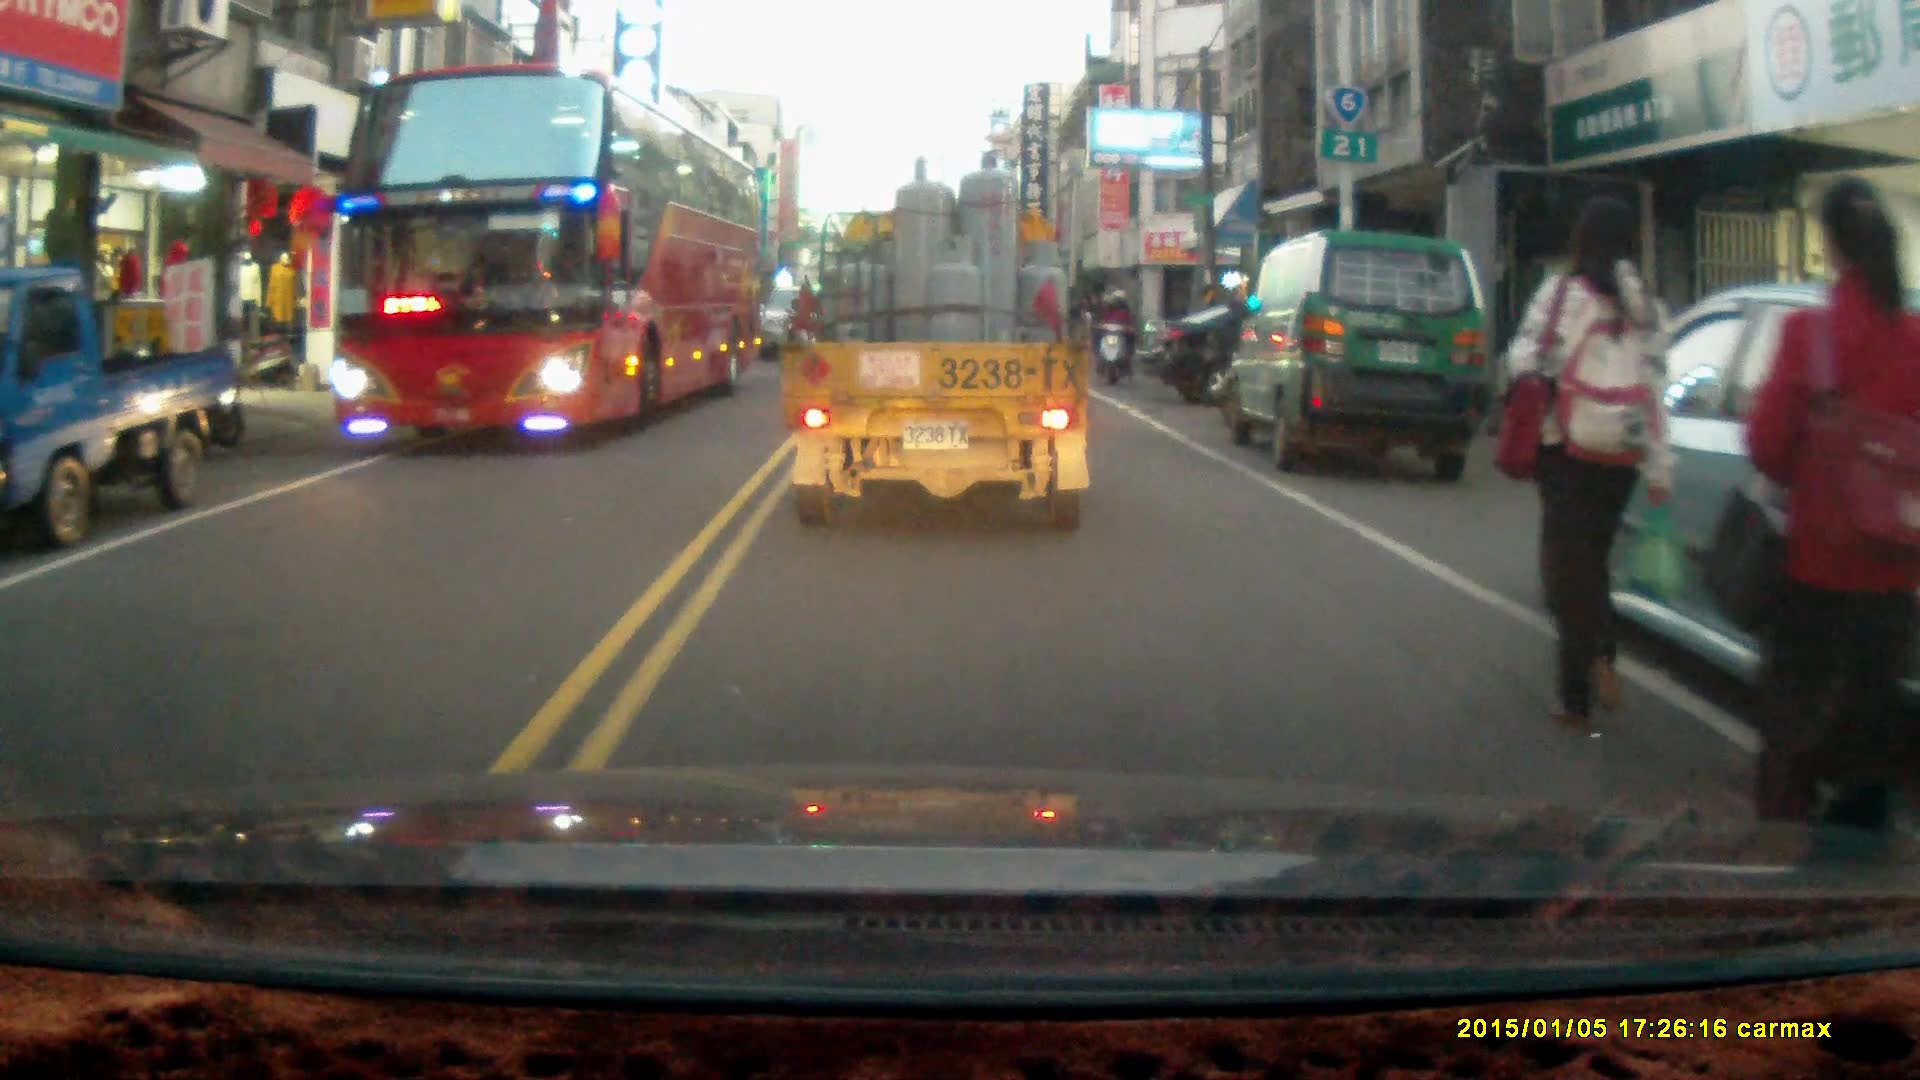pedestrian: (1743, 177, 1920, 863), (1501, 196, 1683, 748)
rider: (1090, 285, 1136, 382)
vehicle: (324, 67, 773, 450), (786, 150, 1096, 537), (1, 266, 242, 557), (1228, 230, 1488, 475), (1133, 303, 1432, 407)
